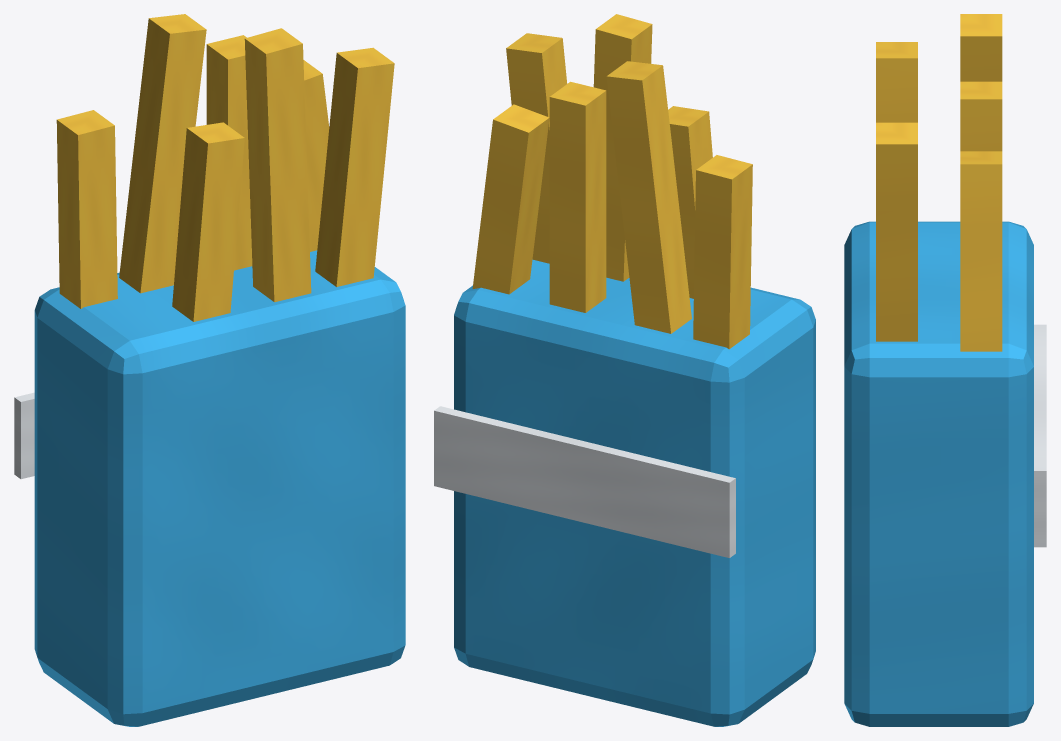
File: T_fries.glb
3 views of the same model, side by side, from view 1: azimuth 30°, elevation 25°; view 2: azimuth 150°, elevation 25°; view 3: azimuth 270°, elevation 25° (orthographic). The views are drawn at different scales.
Parts seen in each view (by area): view 1: Fries; view 2: Fries; view 3: Fries.
Boxes of the visible parts, bbox=[...] form: Fries: bbox=[14, 14, 405, 726]; Fries: bbox=[434, 14, 815, 726]; Fries: bbox=[844, 14, 1046, 726].
Size of the model in its own units: 0.082 by 0.1653 by 0.048.
Materials: 1 (1 with a texture image).
